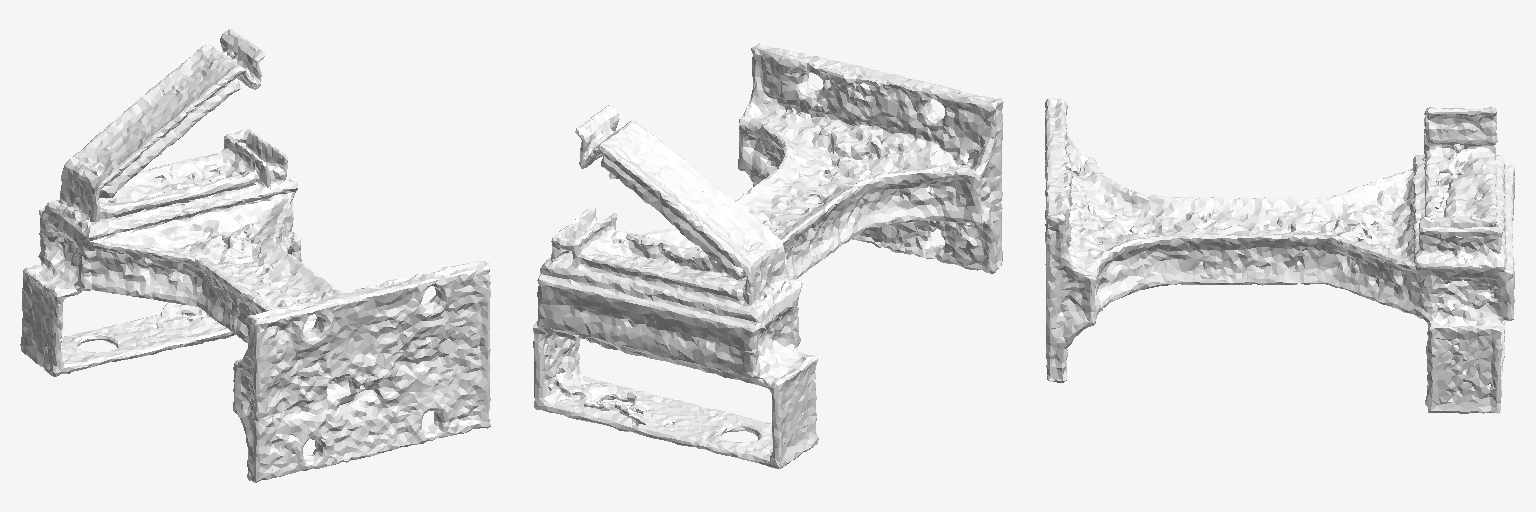
robot.urdf — atb3_flat-mount:
<?xml version="0.0" ?>
<robot name="atb3_flat-mount">
  <link name="baseLink">
    <contact>
      <friction_anchor/>
      <lateral_friction value="0.8"/>
      <spinning_friction value="0.001"/>
      <rolling_friction value="0.001"/>
      <contact_cfm value="0.0"/>
      <contact_erp value="0.2"/>
    </contact>
    <inertial>
       <origin rpy="0 0 0" xyz="0 0 0"/>
       <mass value="0.01"/>
       <inertia ixx="1e-3" ixy="0" ixz="0" iyy="1e-3" iyz="0" izz="1e-3"/>
    </inertial>
    <visual>
      <origin rpy="0 0 0" xyz="0 0 0"/>
      <geometry>
        <mesh filename="obj/fused_model.obj" scale="1 1 1"/>
      </geometry>
      <material name="white">
        <color rgba="1. 1. 1. 1."/>
      </material>
    </visual>
    <collision>
      <origin rpy="0 0 0" xyz="0 0 0"/>
      <geometry>
        <mesh filename="obj/fused_model.obj" scale="1 1 1"/>
      </geometry>
    </collision>
  </link>
</robot>

--- Render facts (derived) ---
3 views of the same robot in one strip: view 1: azimuth 30°, elevation 25°; view 2: azimuth 150°, elevation 25°; view 3: azimuth 270°, elevation 25° (orthographic).
Robot: atb3_flat-mount — 1 links, 0 joints (none); root link baseLink; default pose: all joints at 0.
Visible links, largest first — view 1: baseLink; view 2: baseLink; view 3: baseLink.
Link boxes in pixels (x1=…): baseLink: x1=20, y1=29, x2=490, y2=482; baseLink: x1=533, y1=43, x2=1003, y2=468; baseLink: x1=1045, y1=98, x2=1514, y2=413.
Bounding box of the posed robot: 0.0623 × 0.1002 × 0.0671 m (x, y, z).
1 mesh visuals loaded from 1 distinct referenced files (1 OBJ).